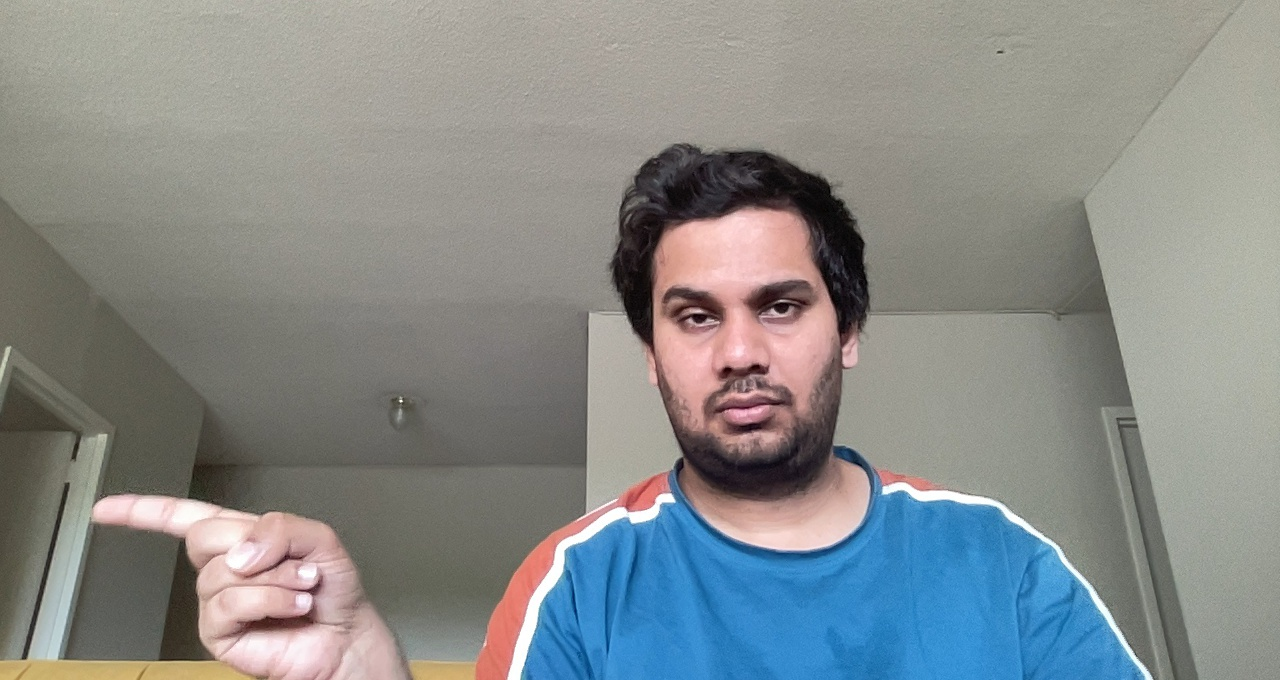fingerright: (88, 486, 400, 675)
